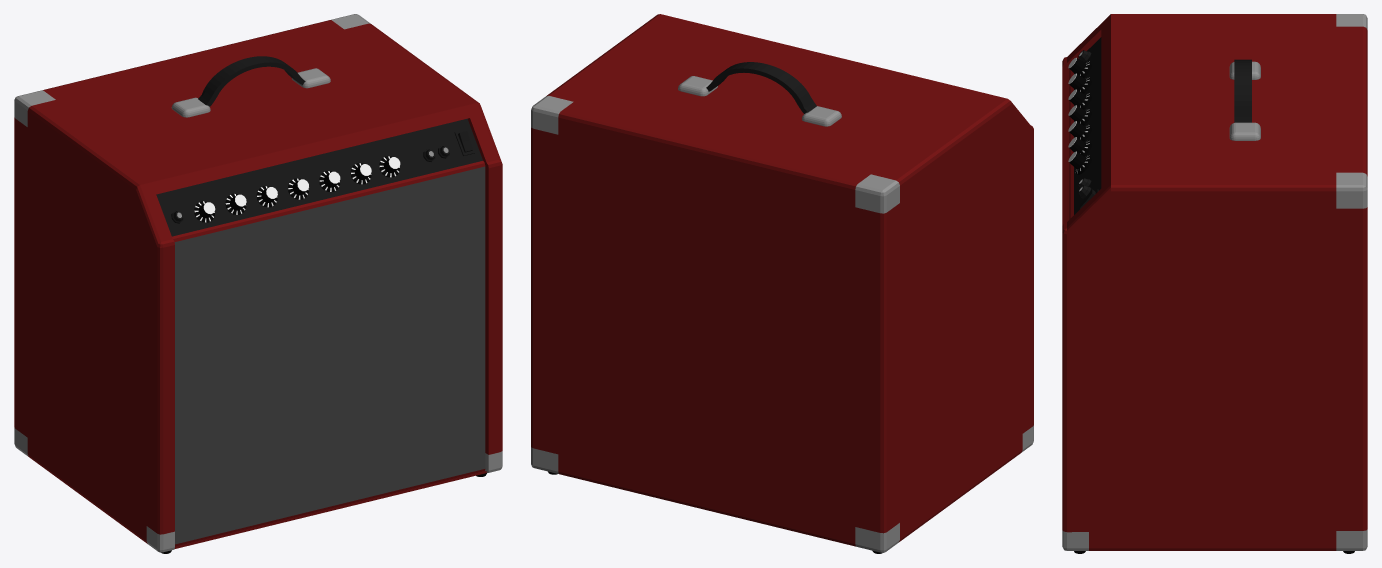
Rendered from Amp_1318.gltf.
3 renders of one model, left to right at view 1: azimuth 30°, elevation 25°; view 2: azimuth 150°, elevation 25°; view 3: azimuth 270°, elevation 25°, orthographic. The views are drawn at different scales.
Parts seen in each view (by area): view 1: node-0; view 2: node-0; view 3: node-0.
Part boxes in pixels (box(x1,y1,x2,y2)): node-0: box(14, 14, 502, 553); node-0: box(531, 14, 1033, 553); node-0: box(1062, 14, 1367, 553).
Size of the model in its own units: 33.65 by 36.62 by 24.83.
